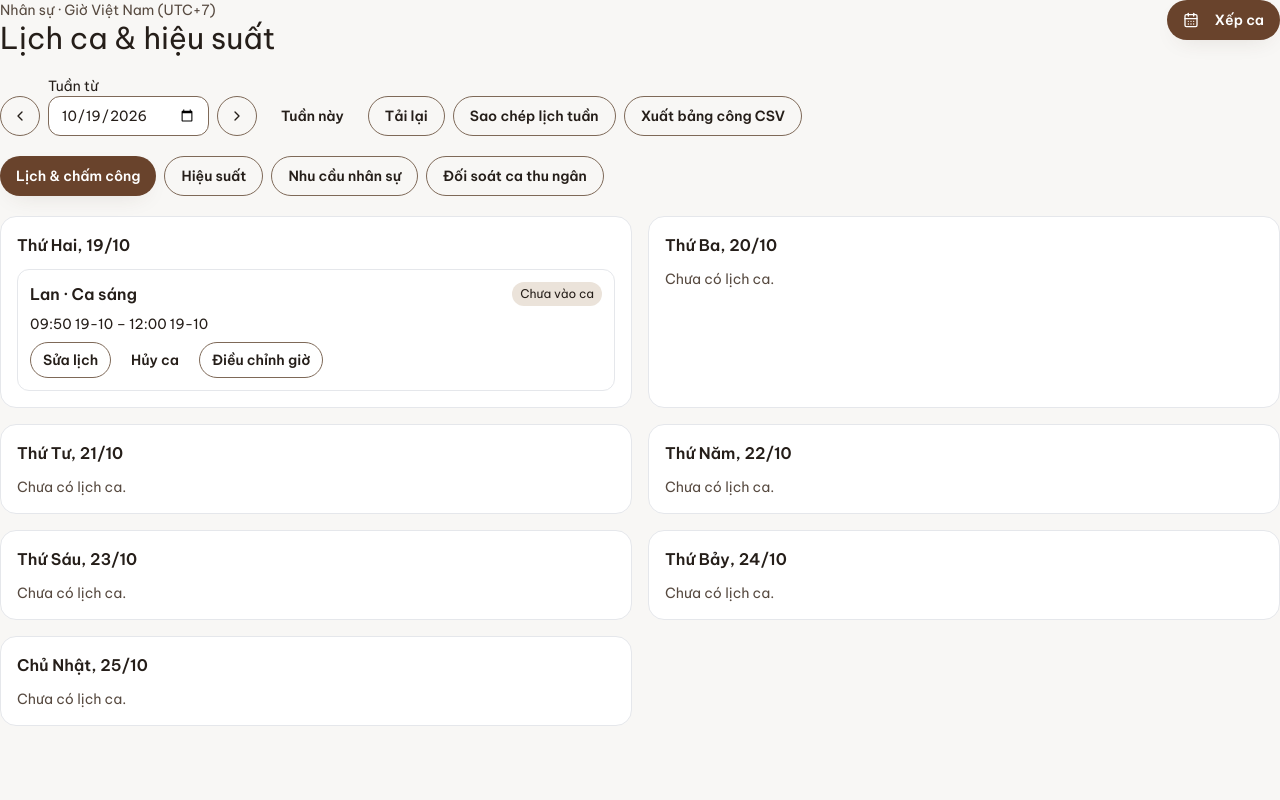
it: workforce UI › previews copying, prevents conflicting confirmation and retries the same request after a lost response
Expected: the heading "Lan · Ca sáng" is shown, [30,282,137,306]
What coordinates should you click on to do the following:
click the button "Sao chép lịch tuần"
I would click on:
 (534, 116)
Its box is [453,96,616,136].
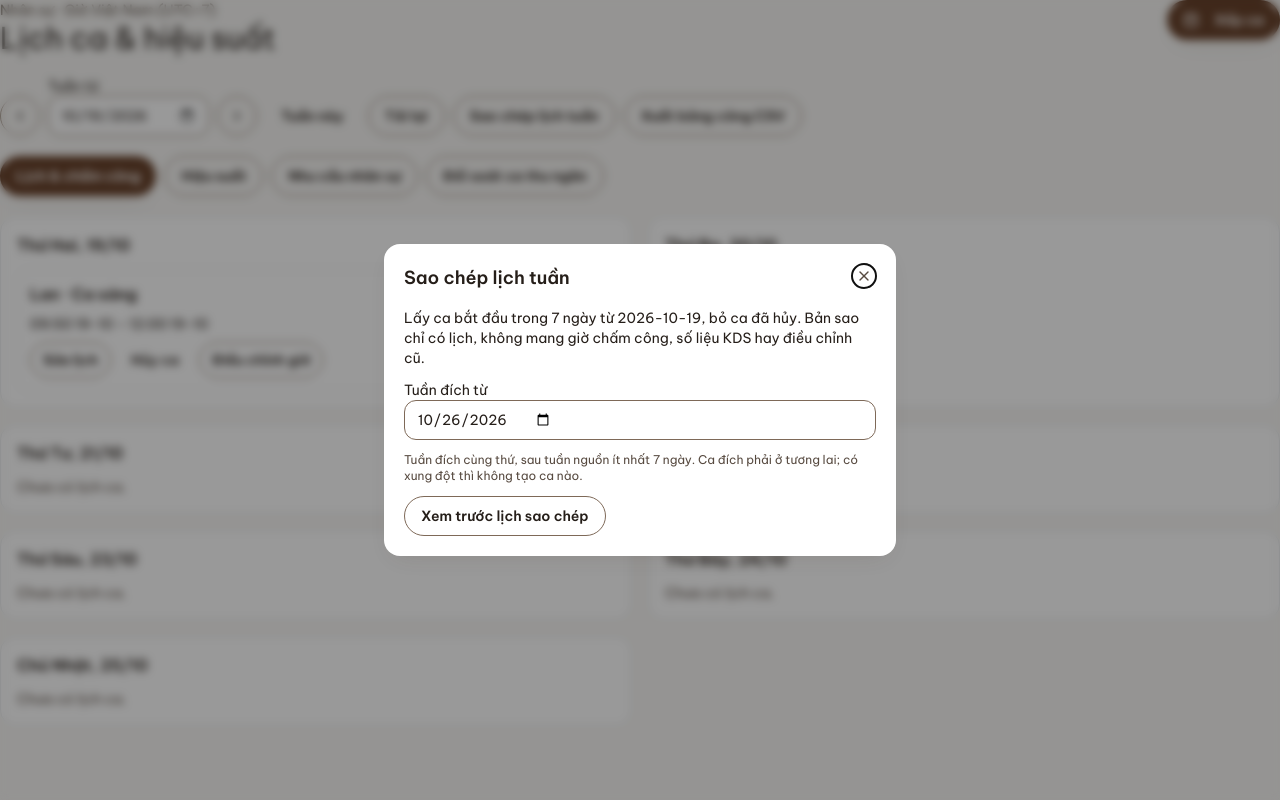
What coordinates should you click on to do the following:
click the button "Xem trước lịch sao chép"
I would click on:
 (505, 516)
Its box is [404,496,606,536].
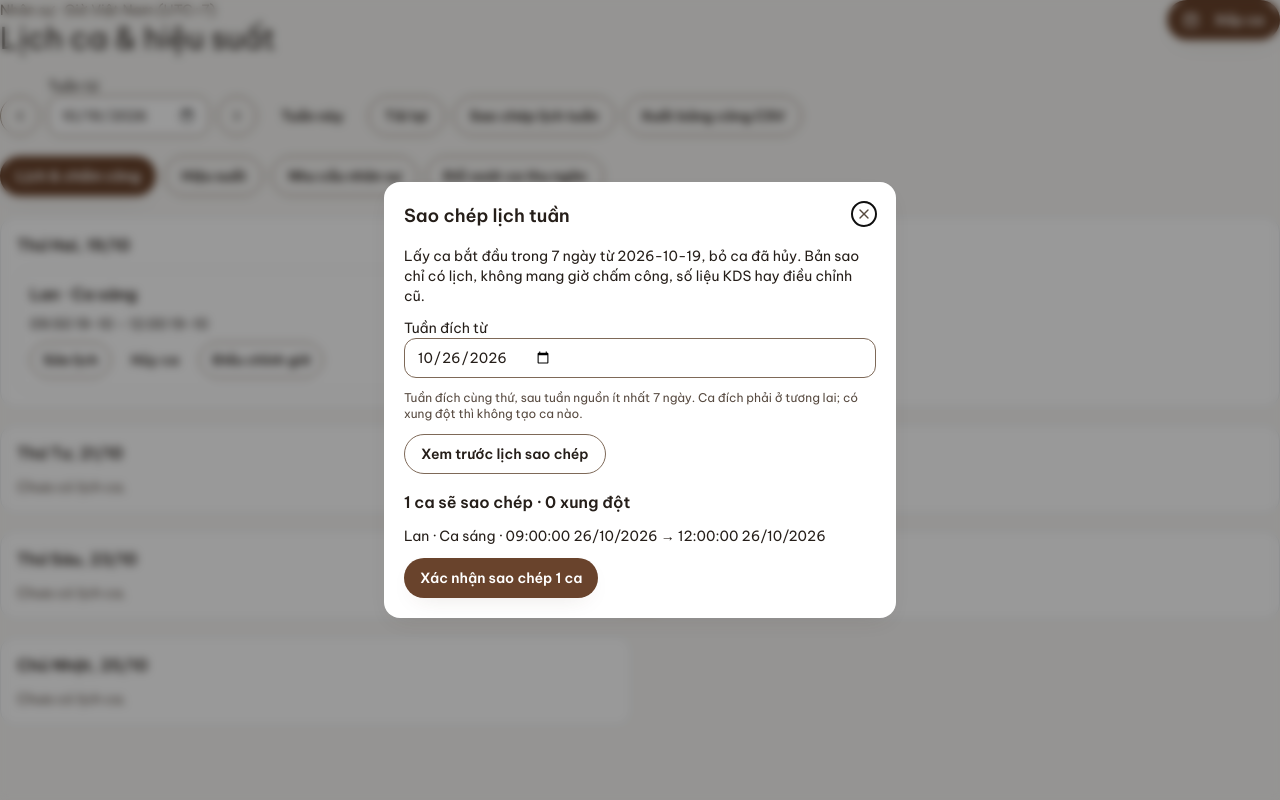
What coordinates should you click on to do the following:
click the button "Xác nhận sao chép 1 ca"
I would click on:
 (501, 578)
Its box is [404,558,598,598].
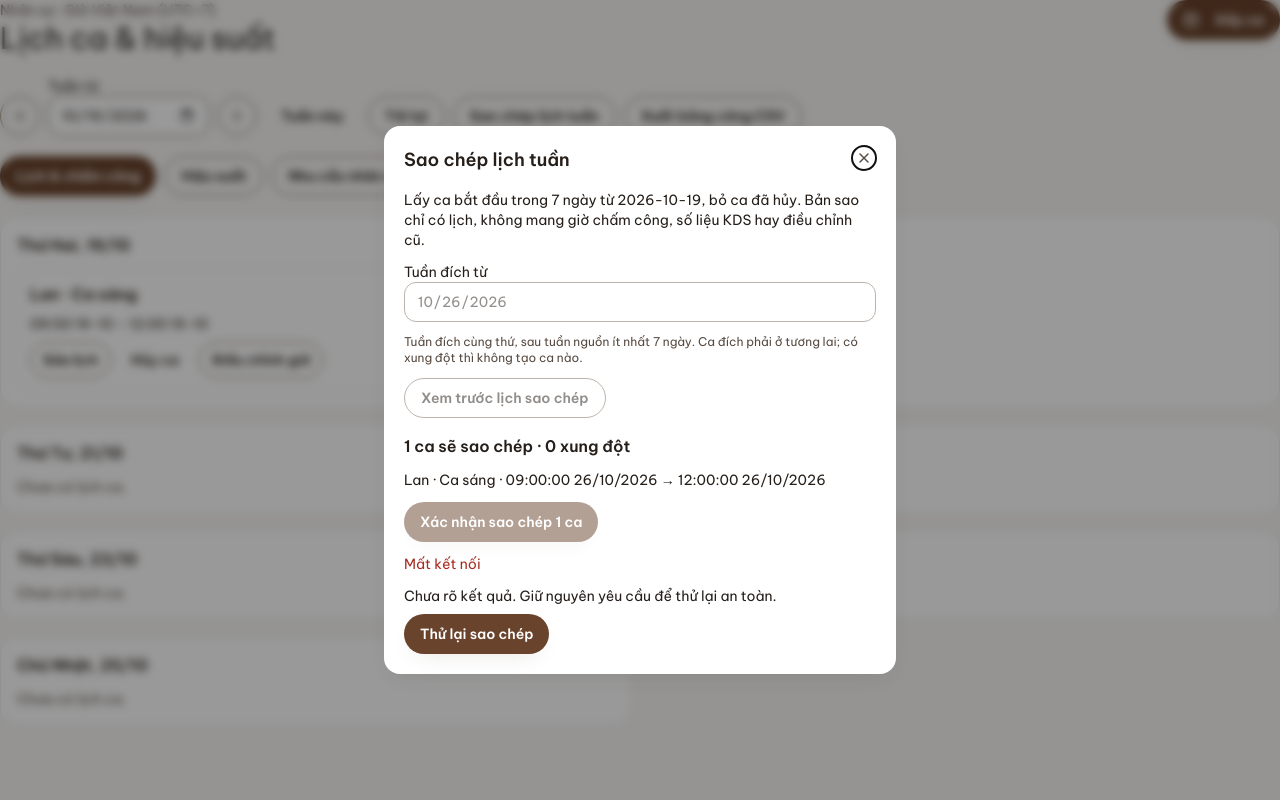
Result: the button "Thử lại sao chép" is shown
What coordinates should you click on to do the following:
click the button "Thử lại sao chép"
I would click on:
 (477, 634)
Its box is [404,614,550,654].
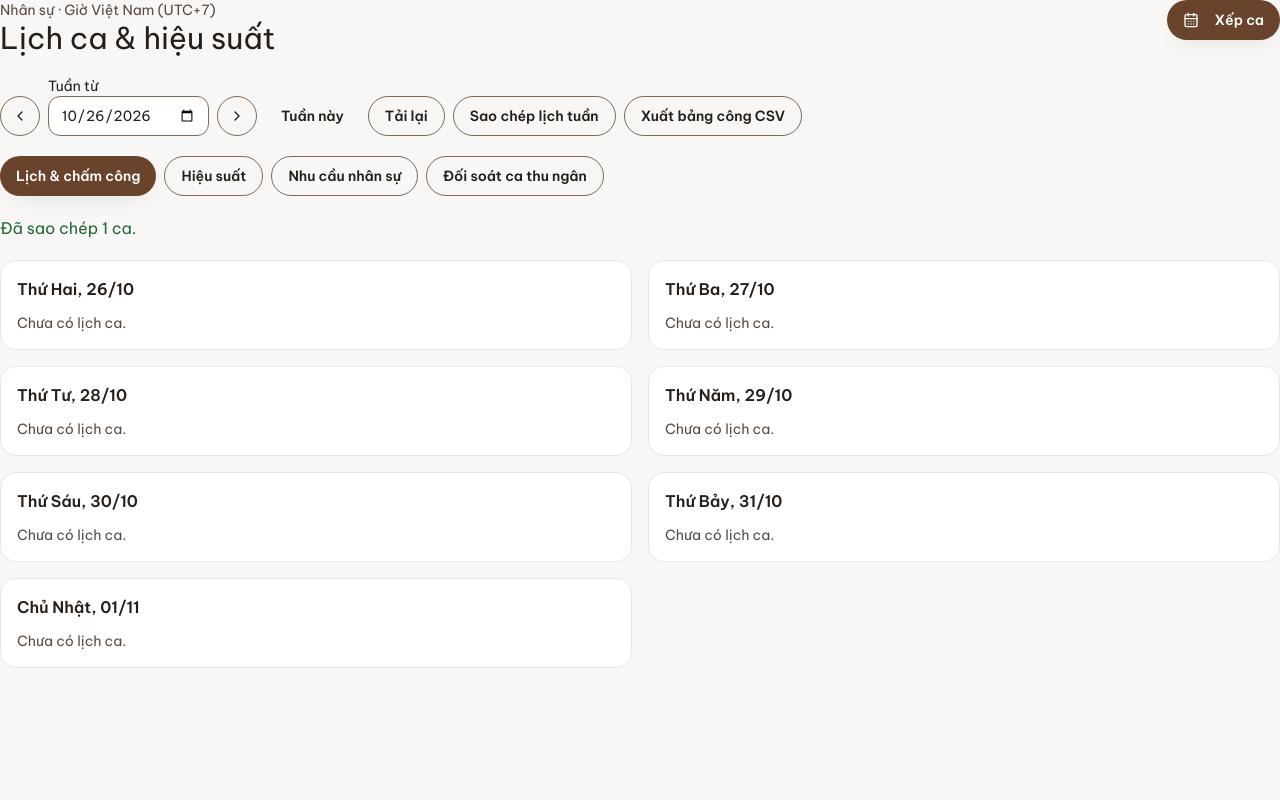
Result: the text "Đã sao chép 1 ca." is shown at [0,218,136,238]
